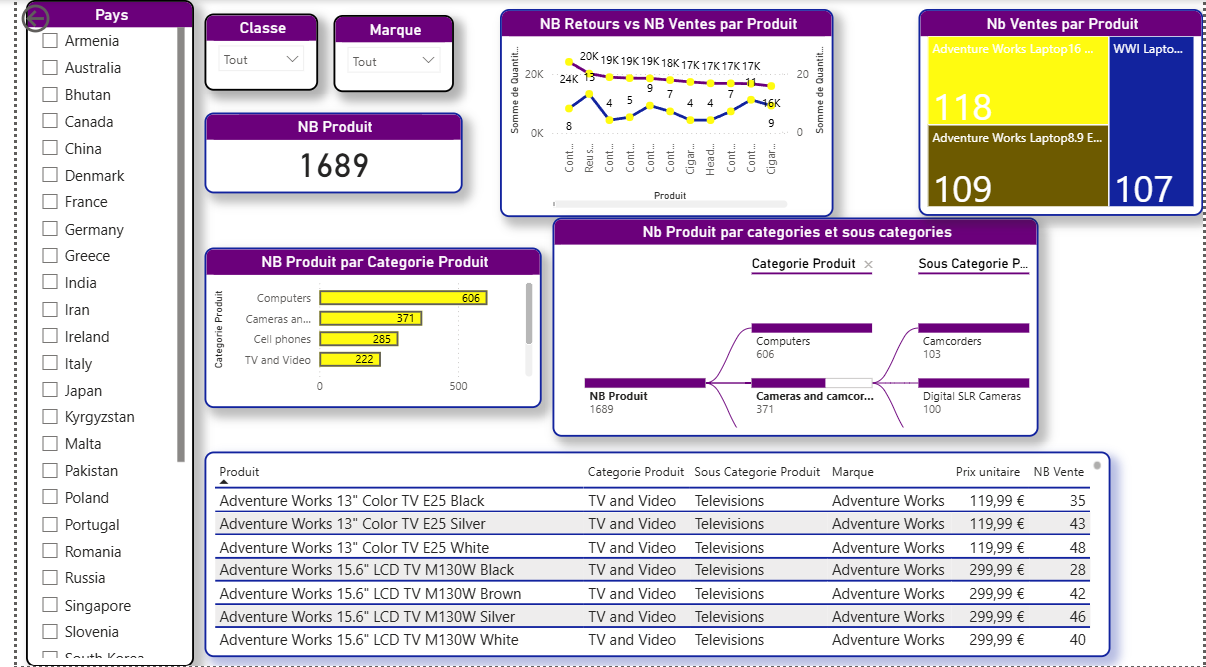

What the dashboard file says about the page in this screenshot:
{"tool":"powerbi","page":{"name":"Produit","canvas":[1280,720],"ordinal":1},"visuals":[{"type":"slicer","title":"Pays","fields":{"Values":["Geographie.Pays"]},"box":[9.4,0,181.4,720],"z":0},{"type":"slicer","title":"Classe","fields":{"Values":["Produits.Class"]},"box":[202.4,14.9,122.6,83.6],"z":1000},{"type":"card","title":"NB Produit","fields":{"Values":["Produits.NB Produit"]},"box":[202.4,120.7,278.5,87.3],"z":2000},{"type":"actionButton","box":[0,0,100,40],"z":3000},{"type":"slicer","title":"Marque","fields":{"Values":["Produits.Marque"]},"box":[342,15.6,130.2,83.3],"z":4000},{"type":"clusteredBarChart","fields":{"Y":["Produits.NB Produit"],"Category":["Categorie Produits.Categorie Produit"]},"box":[202.4,267.2,364.3,173.3],"z":5000},{"type":"tableEx","fields":{"Values":["Produits.Produit","Categorie Produits.Categorie Produit","Sous Categories Produits.Sous Categorie Produit","Produits.Marque","Produits.Prix unitaire","Sales.NB Vente"]},"box":[202.4,487.4,978,221.8],"z":6000},{"type":"lineChart","title":"NB Retours vs NB Ventes par Produit","fields":{"Y":["Sum(Sales.Quantité de vente)"],"Category":["Produits.Produit"],"Y2":["Sum(Sales.Quantité de retour)"]},"box":[521.8,9.3,360.2,224.7],"z":7000},{"type":"decompositionTreeVisual","title":"Nb Produit par categories et sous categories","fields":{"Analyze":["Produits.NB Produit"],"ExplainBy":["Categorie Produits.Categorie Produit","Sous Categories Produits.Sous Categorie Produit"]},"box":[578.1,234.8,524.6,236.4],"z":8000},{"type":"treemap","title":"Nb Ventes par Produit","fields":{"Values":["Sales.NB Vente"],"Group":["Produits.Produit"]},"box":[973.2,9.7,307.7,223.5],"z":9000}]}

Visuals, with their boxes in screenshot pixels (x1, y1, x2, y2), scaled from the page's 1280x720 canvas onto the 1206x667 screenshot:
"Pays" slicer: 9 0 180 666
"Classe" slicer: 191 14 306 91
"NB Produit" card: 191 112 453 193
actionButton: 0 0 94 37
"Marque" slicer: 322 14 445 92
clusteredBarChart - Produits.NB Produit x Categorie Produits.Categorie Produit: 191 248 534 408
tableEx - Produits.Produit x Categorie Produits.Categorie Produit: 191 452 1112 657
"NB Retours vs NB Ventes par Produit" lineChart: 492 9 831 217
"Nb Produit par categories et sous categories" decompositionTreeVisual: 545 218 1039 437
"Nb Ventes par Produit" treemap: 917 9 1205 216
